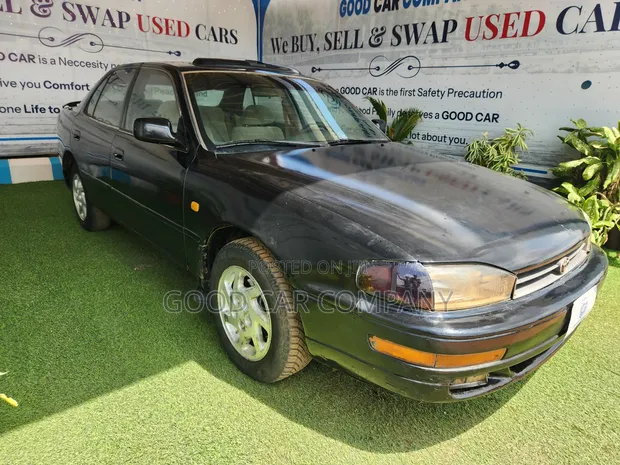car: (53, 53, 611, 428)
